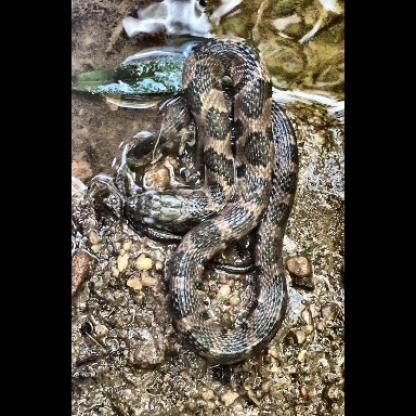Snake: (116, 35, 304, 370)
